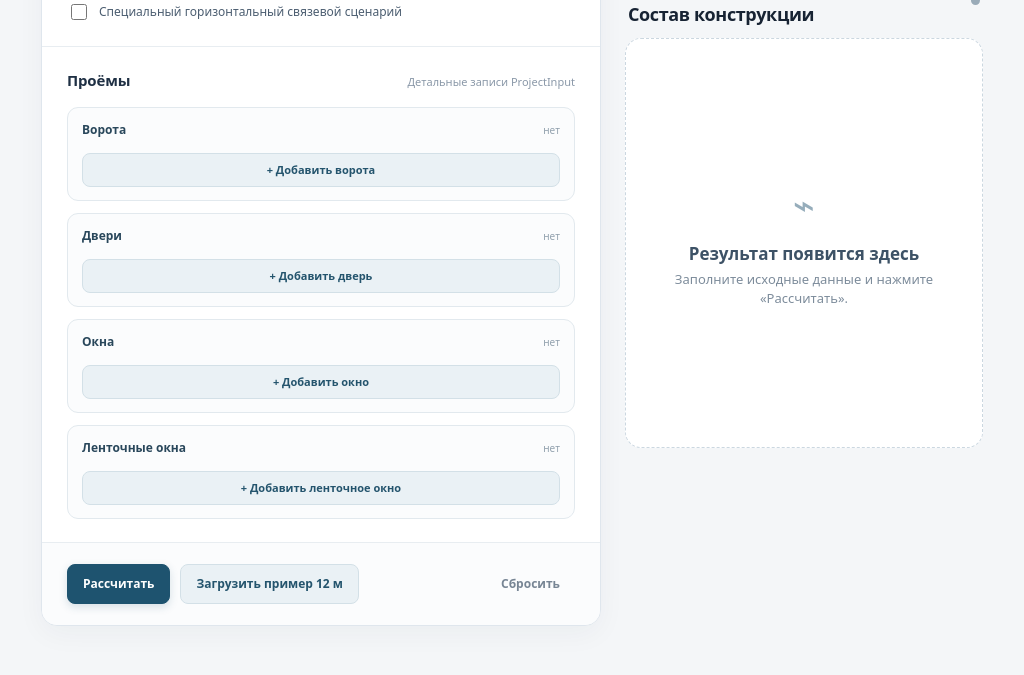
Test: Sprint M calculator UI › offers a manual climate CTA for an unknown city
The image size is (1024, 675).
(page scrolled)
Click the button "Рассчитать" at (119, 584), box [67,564,170,604]
(page scrolled)
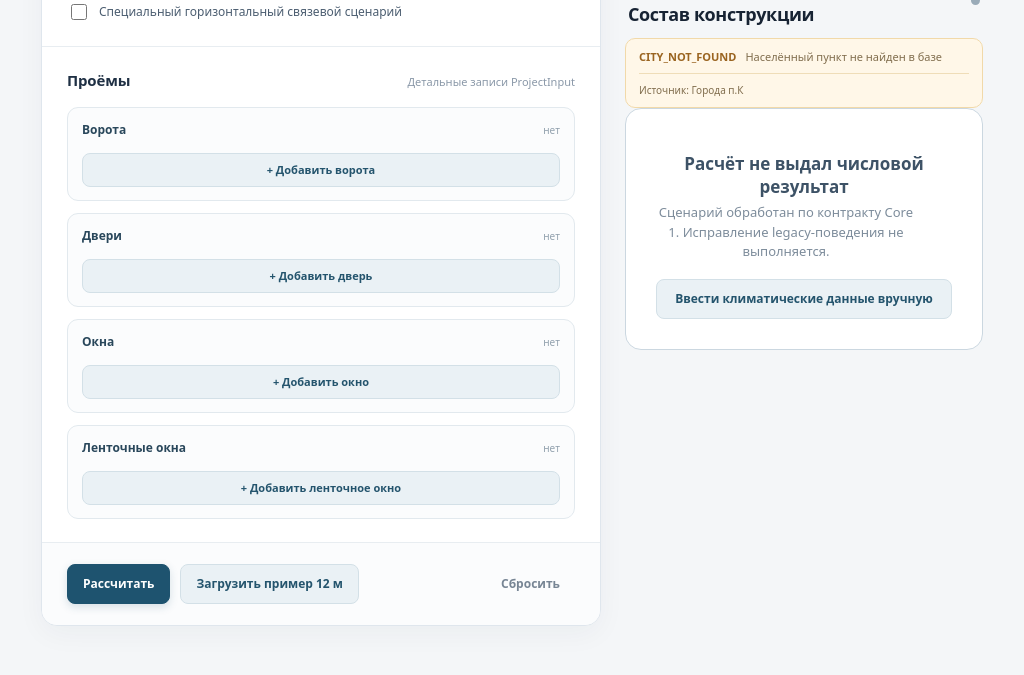
Expected: the button "Ввести климатические данные вручную" is shown
Click the button "Ввести климатические данные вручную" at (804, 298), box [656,278,952,318]
(page scrolled)
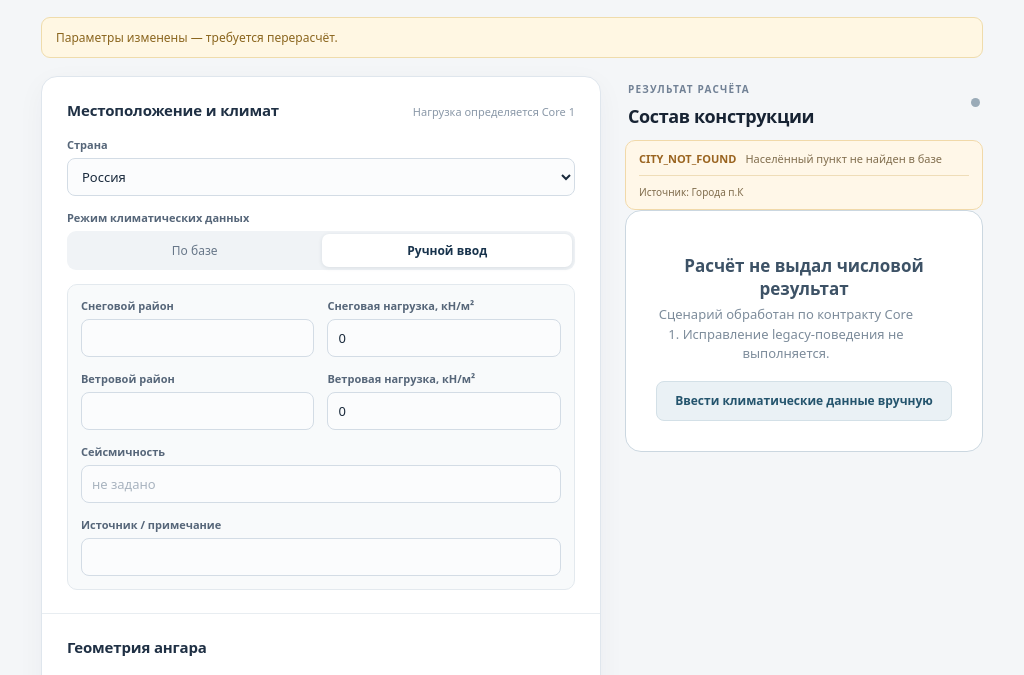
Expected: the field labelled "Снеговой район" is shown, [81,319,314,357]
